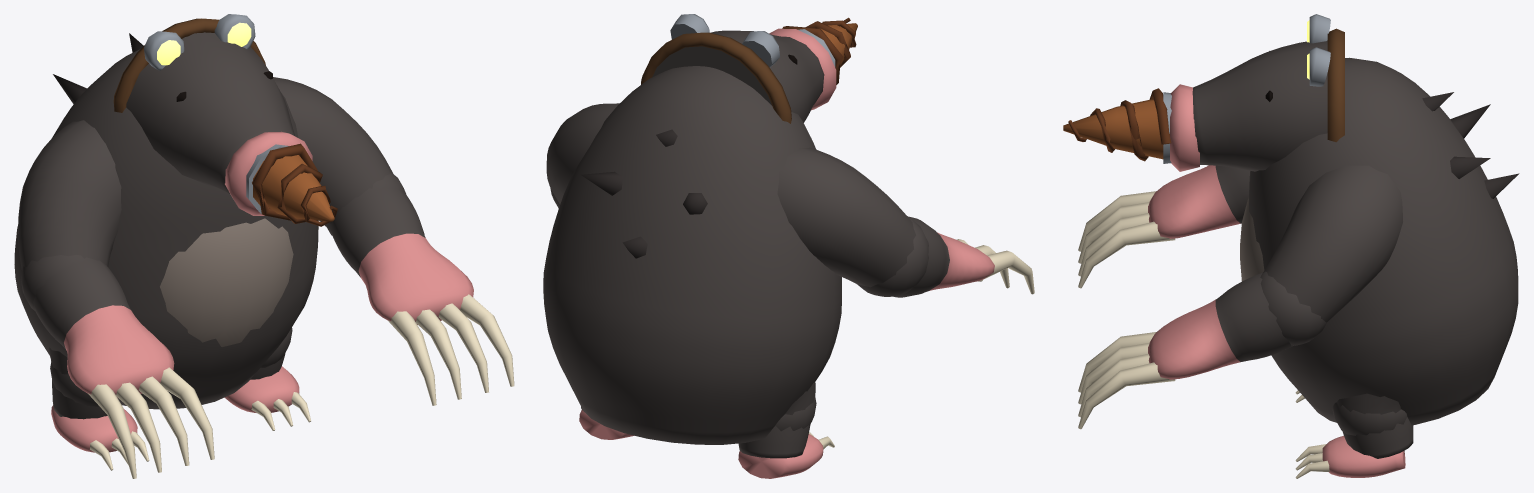
File: mole.glb
3 views of the same model, side by side, from view 1: azimuth 30°, elevation 25°; view 2: azimuth 150°, elevation 25°; view 3: azimuth 270°, elevation 25° (orthographic). The views are drawn at different scales.
Parts seen in each view (by area): view 1: Torso, Snout, Belly, ArmR_Upper, ArmR_Fore, ArmL_Fore, ArmL_Upper, DrillCone, DrillThread, Nose, LegR_Foot, LegL_Foot (+15 smaller); view 2: Torso, ArmR_Upper, Snout, ArmR_Fore, ArmL_Upper, GoggleStrap, ArmR_ElbowJoint, LegR_Foot, LegR_Shin, Nose, DrillThread, GoggleRim1 (+5 smaller); view 3: Torso, ArmL_Upper, Snout, ArmL_Fore, ArmR_Fore, DrillCone, ArmL_ElbowJoint, Nose, LegL_Foot, GoggleStrap, DrillThread, LegL_Shin (+15 smaller).
Part boxes in pixels (x1,y1,x2,y2): Torso: (14, 49, 318, 409); Snout: (126, 32, 294, 193); Belly: (160, 218, 293, 346); ArmR_Upper: (18, 120, 121, 270); ArmR_Fore: (33, 259, 174, 397); ArmL_Fore: (329, 186, 473, 324); ArmL_Upper: (273, 77, 393, 226); DrillCone: (253, 155, 334, 221); DrillThread: (252, 143, 337, 226); Nose: (225, 131, 312, 215); LegR_Foot: (51, 405, 137, 452); LegL_Foot: (224, 366, 299, 412); Torso: (543, 66, 841, 444); ArmR_Upper: (777, 147, 915, 287); Snout: (652, 30, 824, 122); ArmR_Fore: (893, 216, 994, 297); ArmL_Upper: (546, 103, 619, 204); GoggleStrap: (641, 32, 791, 123); ArmR_ElbowJoint: (857, 216, 928, 296); LegR_Foot: (738, 434, 823, 478); LegR_Shin: (738, 424, 810, 458); Nose: (769, 28, 836, 110); DrillThread: (782, 17, 856, 84); GoggleRim1: (742, 31, 779, 67); Torso: (1249, 57, 1518, 425); ArmL_Upper: (1263, 165, 1402, 322); Snout: (1192, 40, 1327, 171); ArmL_Fore: (1148, 272, 1292, 379); ArmR_Fore: (1148, 165, 1250, 238); DrillCone: (1063, 99, 1163, 159); ArmL_ElbowJoint: (1260, 271, 1327, 345); Nose: (1170, 84, 1199, 171); LegL_Foot: (1322, 435, 1405, 477); GoggleStrap: (1327, 28, 1344, 142); DrillThread: (1068, 88, 1171, 161); LegL_Shin: (1342, 417, 1413, 458).
Bounding box in the file's own units: 1.32 × 1.33 × 1.37.
